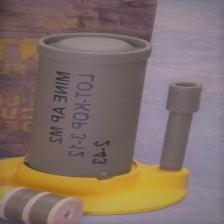M2A1: (11, 29, 200, 224)
